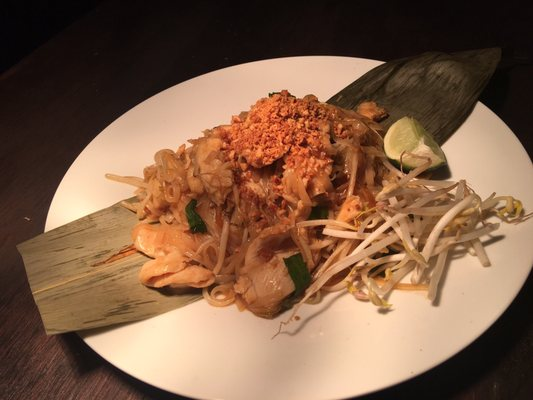curry: (2, 1, 530, 400)
